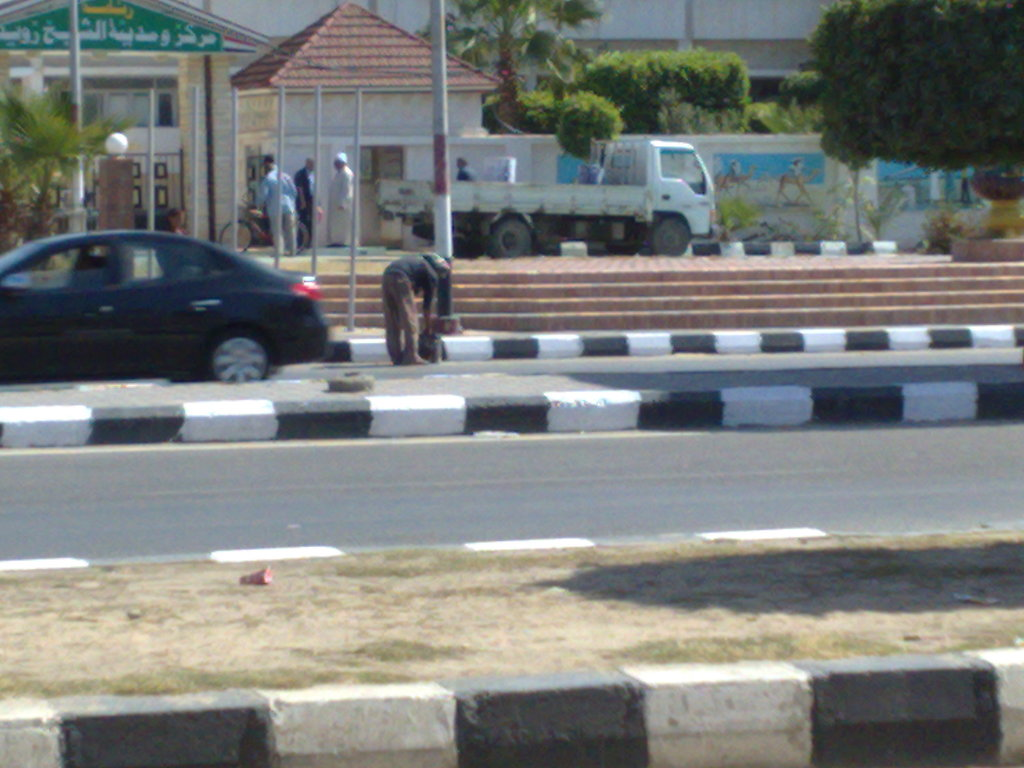Car: (0, 226, 328, 385)
